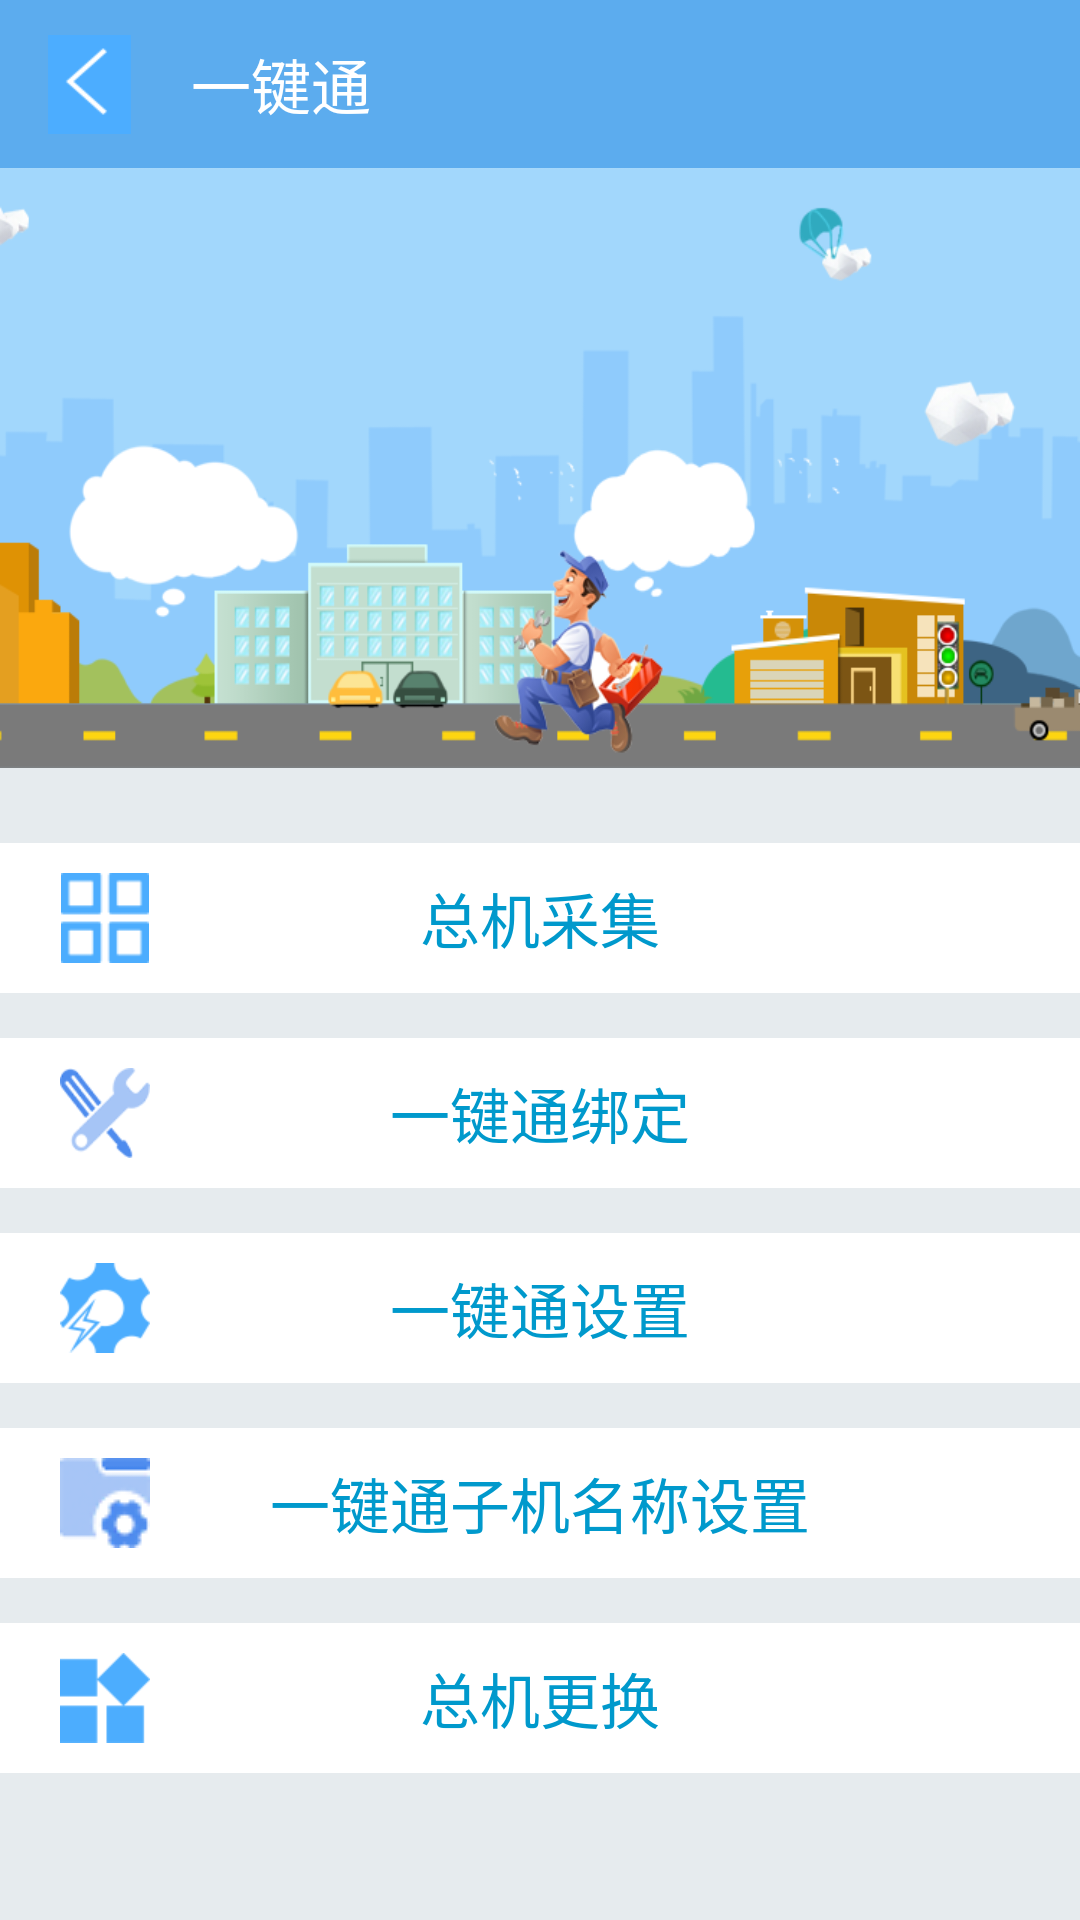

Locate icon controls on the screen. Image size 1080 x 1920, boxes as (x1, y1, x2, y2).
onekey install: (60, 1068, 150, 1158)
